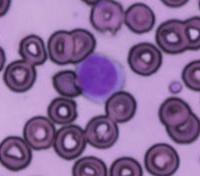L: (75, 52, 125, 104)
